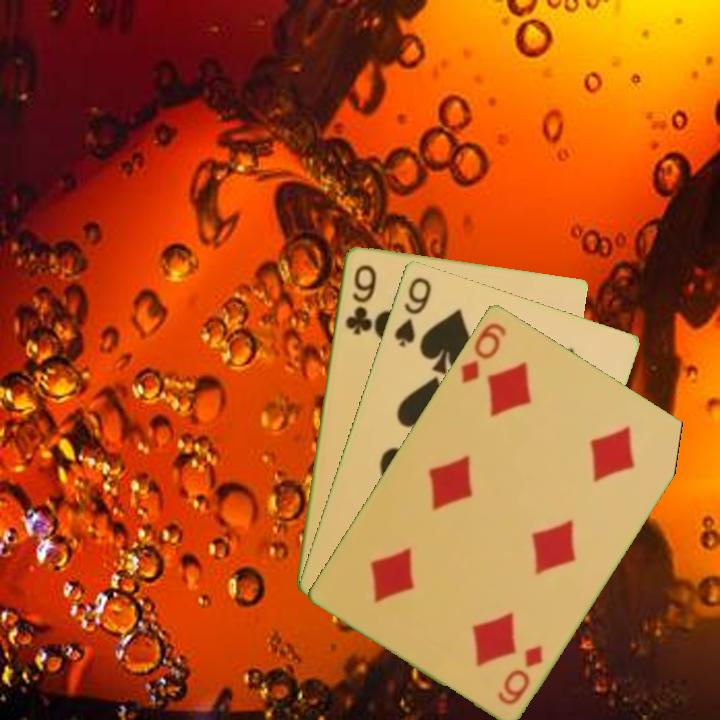6d: (493, 641, 546, 708), (457, 318, 509, 386)
9c: (341, 260, 379, 338)
9s: (390, 273, 434, 350)
